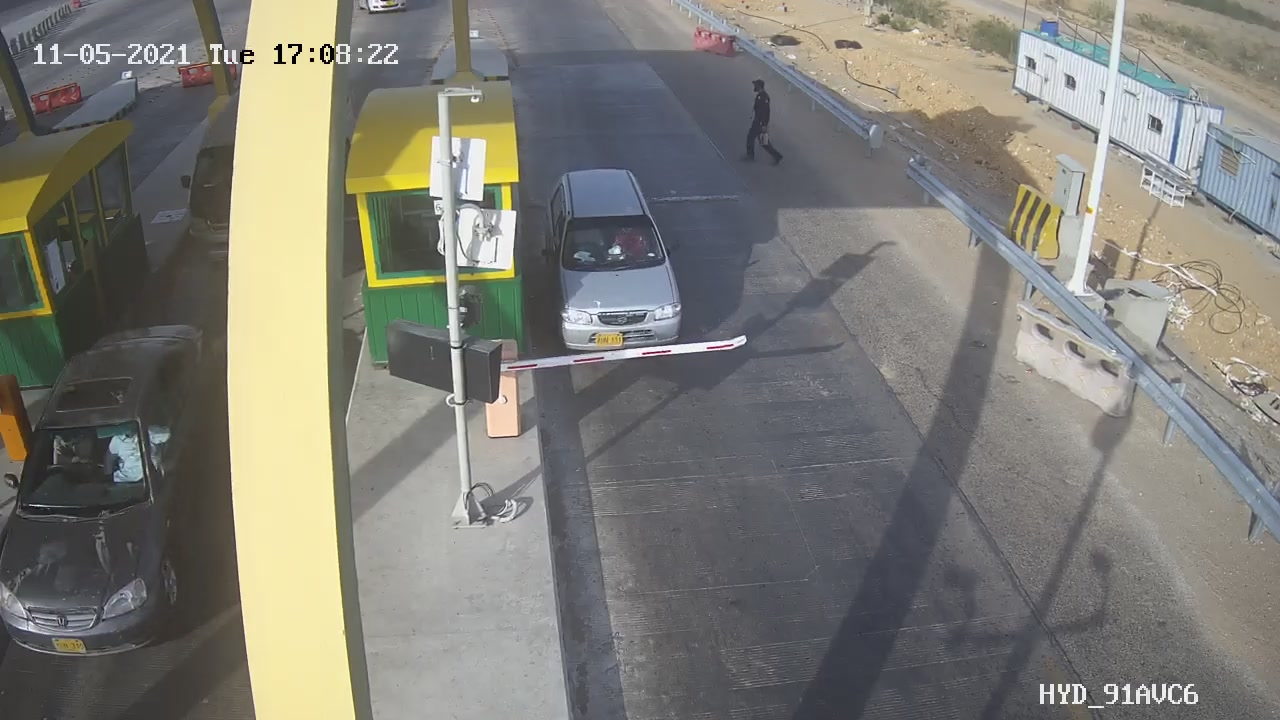F1: (524, 148, 700, 382)
